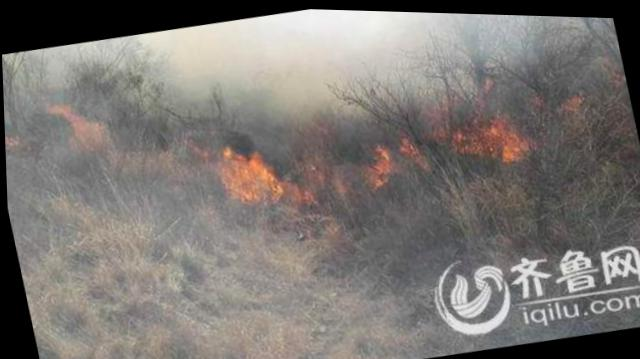fire: (212, 125, 315, 215), (427, 85, 533, 169), (356, 128, 434, 186), (48, 91, 106, 148), (3, 114, 17, 147)
